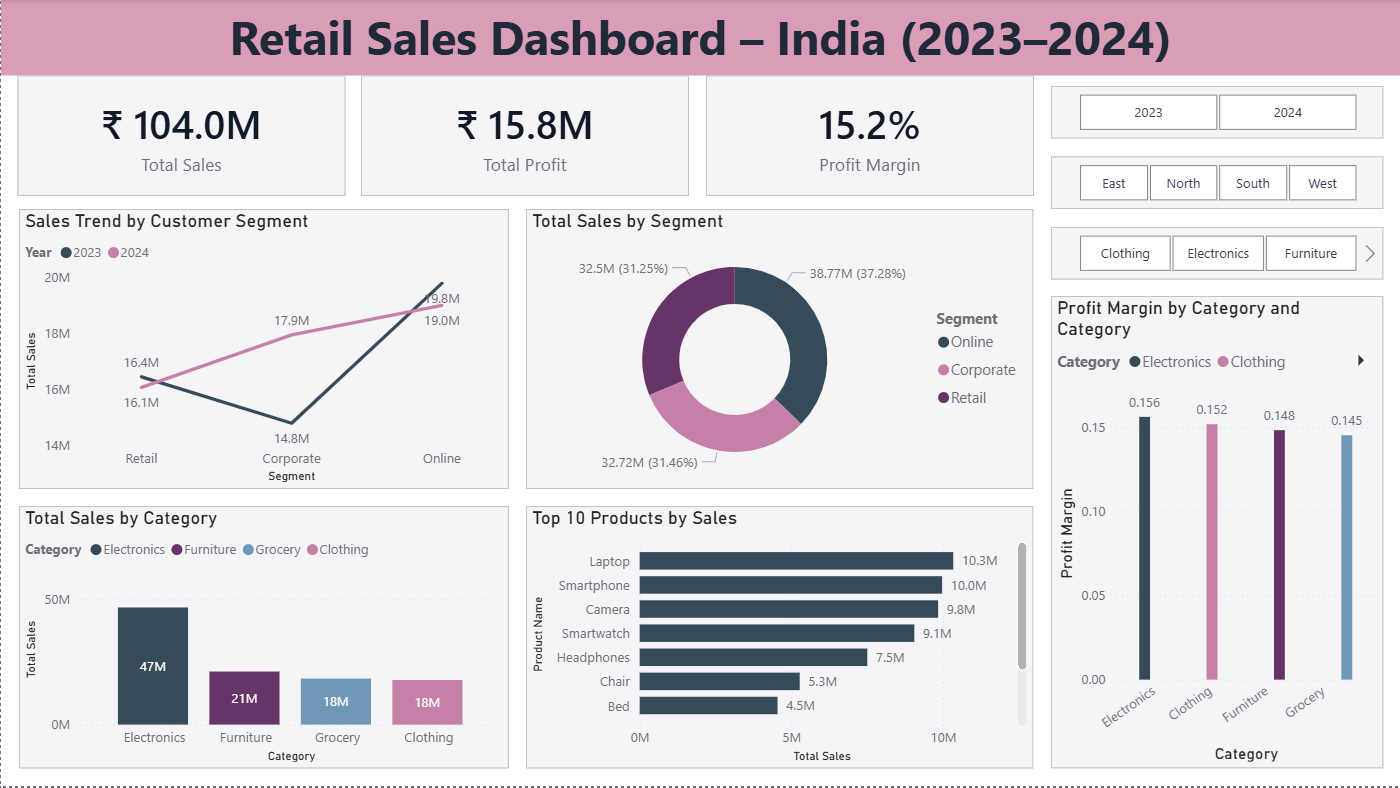

The page's visual inventory and layout, read from the dashboard file:
{"tool":"powerbi","page":{"name":"Page 1","canvas":[1280,720],"ordinal":0},"visuals":[{"type":"textbox","box":[0,0,1280,70],"z":0},{"type":"card","fields":{"Values":["Sales_Fact.Total Sales"]},"box":[15,70,300,110],"z":1000},{"type":"card","fields":{"Values":["Sales_Fact.Total Profit"]},"box":[330,70,300,110],"z":2000},{"type":"card","fields":{"Values":["Sales_Fact.Profit Margin"]},"box":[645,70,300,110],"z":3000},{"type":"lineChart","title":"Sales Trend by Customer Segment","fields":{"Category":["Customer_Dimension.Segment"],"Y":["Sales_Fact.Total Sales"],"Series":["Date_Dimension.Year"]},"box":[16,192,448,256],"z":4000},{"type":"columnChart","title":"Total Sales by Category","fields":{"Category":["Product_Dimension.Category"],"Y":["Sales_Fact.Total Sales"],"Series":["Product_Dimension.Category"]},"box":[16,464,448,240],"z":5000},{"type":"barChart","title":"Top 10 Products by Sales","fields":{"Y":["Sales_Fact.Total Sales"],"Category":["Product_Dimension.Product Name"]},"box":[480,464,464,240],"z":6000},{"type":"donutChart","fields":{"Category":["Customer_Dimension.Segment"],"Y":["Sales_Fact.Total Sales"]},"box":[480,192,464,256],"z":7000},{"type":"slicer","fields":{"Values":["Date_Dimension.Year"]},"box":[960,80,304,48],"z":8000},{"type":"slicer","fields":{"Values":["Sales_Fact.Region"]},"box":[960,144,304,48],"z":9000},{"type":"slicer","fields":{"Values":["Product_Dimension.Category"]},"box":[960,208,304,48],"z":10000},{"type":"clusteredColumnChart","fields":{"Y":["Sales_Fact.Profit Margin"],"Category":["Product_Dimension.Category"],"Series":["Product_Dimension.Category"]},"box":[960,272,304,432],"z":11000}]}

Visuals, with their boxes in screenshot pixels (x1, y1, x2, y2), scaled from the page's 1280x720 canvas onto the 1400x788 screenshot:
textbox: box=[0, 0, 1399, 77]
card - Sales_Fact.Total Sales: box=[16, 77, 345, 197]
card - Sales_Fact.Total Profit: box=[361, 77, 689, 197]
card - Sales_Fact.Profit Margin: box=[705, 77, 1034, 197]
"Sales Trend by Customer Segment" lineChart: box=[18, 210, 508, 490]
"Total Sales by Category" columnChart: box=[18, 508, 508, 770]
"Top 10 Products by Sales" barChart: box=[525, 508, 1032, 770]
donutChart - Customer_Dimension.Segment x Sales_Fact.Total Sales: box=[525, 210, 1032, 490]
slicer - Date_Dimension.Year: box=[1050, 88, 1382, 140]
slicer - Sales_Fact.Region: box=[1050, 158, 1382, 210]
slicer - Product_Dimension.Category: box=[1050, 228, 1382, 280]
clusteredColumnChart - Sales_Fact.Profit Margin x Product_Dimension.Category: box=[1050, 298, 1382, 770]
